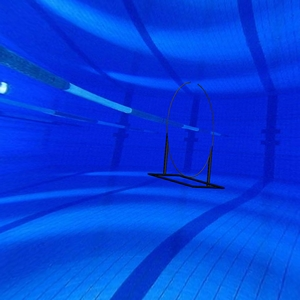circle: (147, 80, 227, 193)
